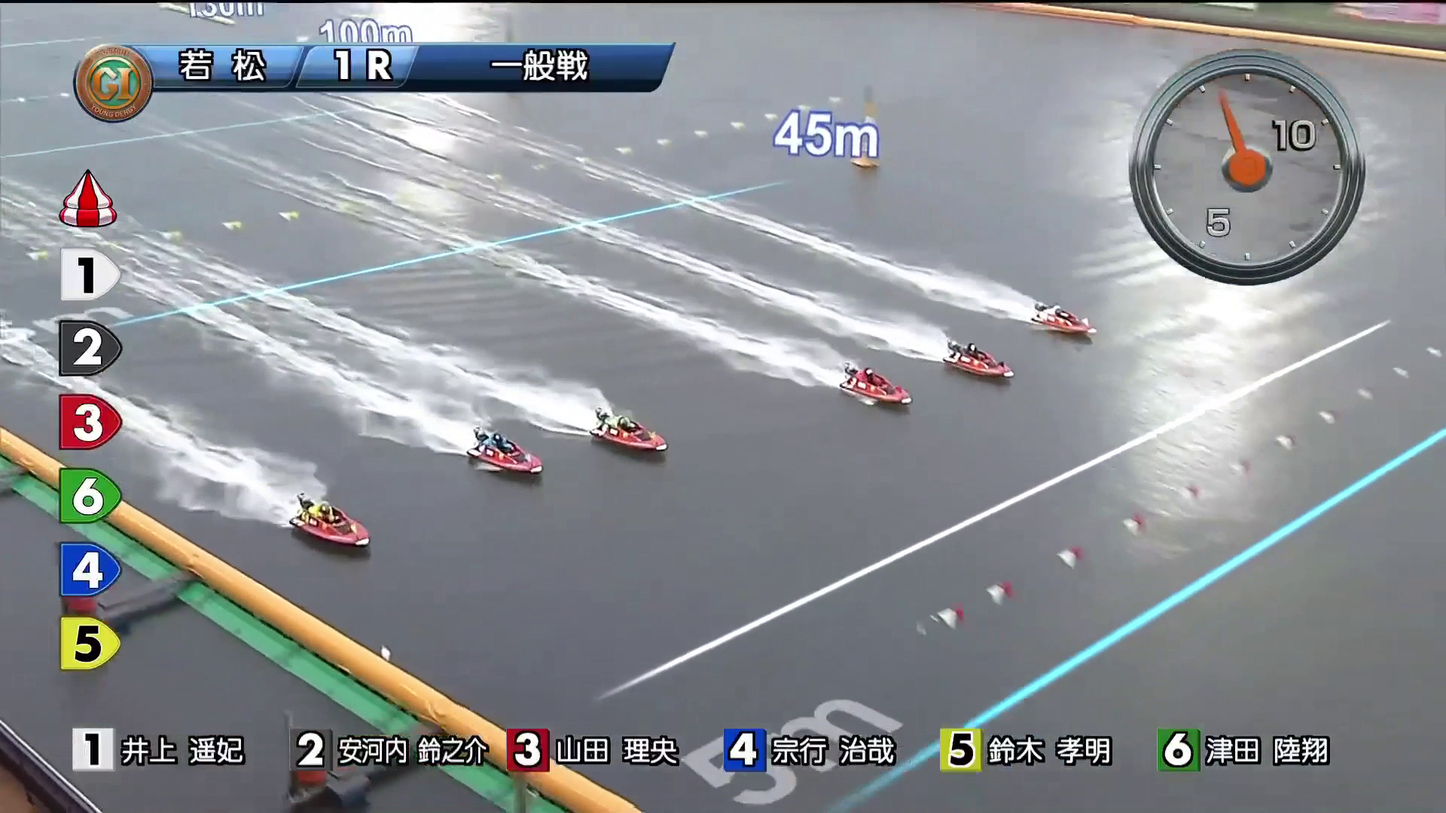１号艇: (1017, 289, 1081, 335)
２号艇: (946, 334, 1008, 372)
３号艇: (843, 359, 898, 401)
４号艇: (602, 411, 665, 454)
５号艇: (476, 446, 545, 484)
６号艇: (322, 527, 387, 574)
